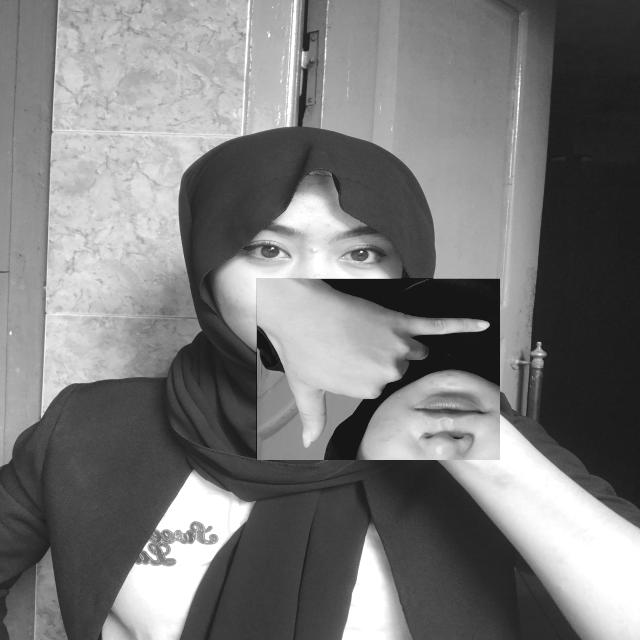telpon: (256, 278, 500, 460)
